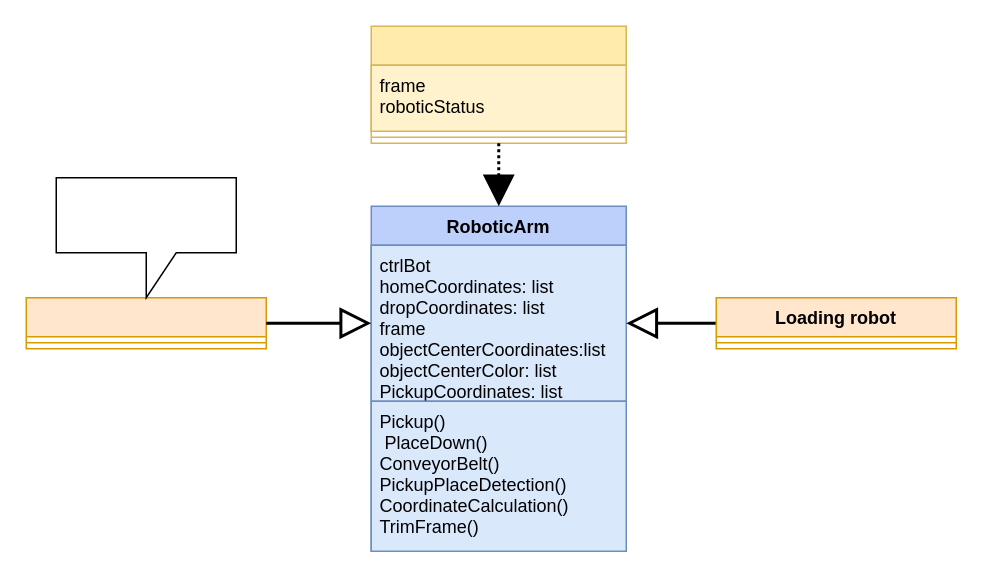
Image size: 983x582. Some labels were removed from this diagram. The box of each missing label's shape, as (x1, y1, x2, y2) in pixels:
Program is made future proof for extra robotarm: (55, 176, 236, 298)
RoboticMain: (370, 25, 626, 143)
Unloading robot: (25, 296, 266, 349)
